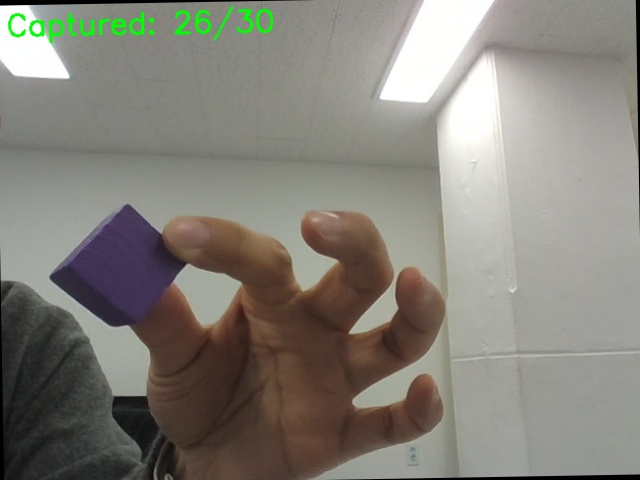Normal: (41, 271, 162, 371)
